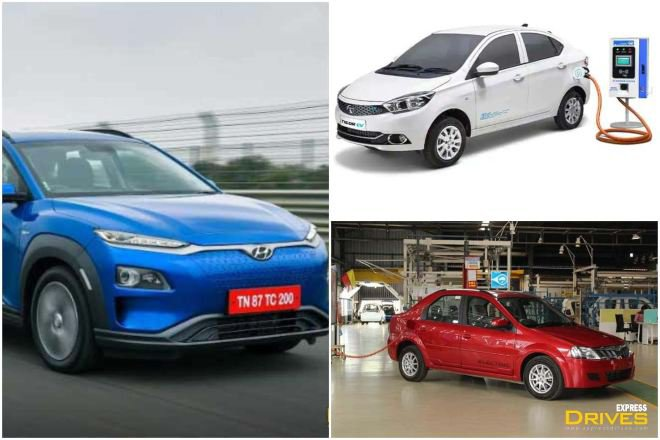car: (3, 116, 325, 366), (338, 21, 588, 160), (391, 290, 640, 404), (360, 301, 384, 323)
